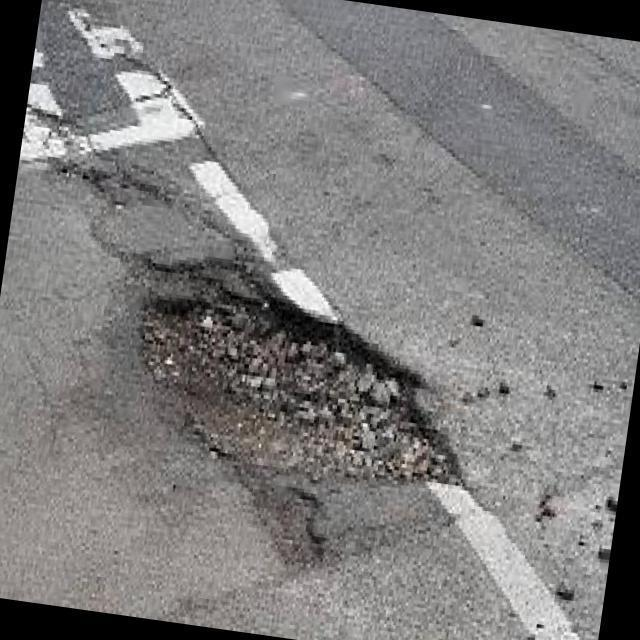pothole: (127, 285, 484, 506)
